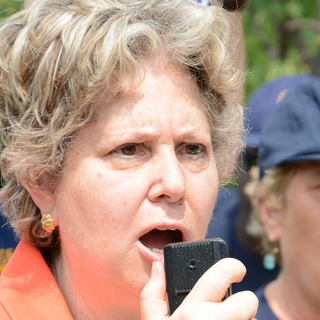eye: (96, 134, 154, 166), (165, 134, 212, 166)
